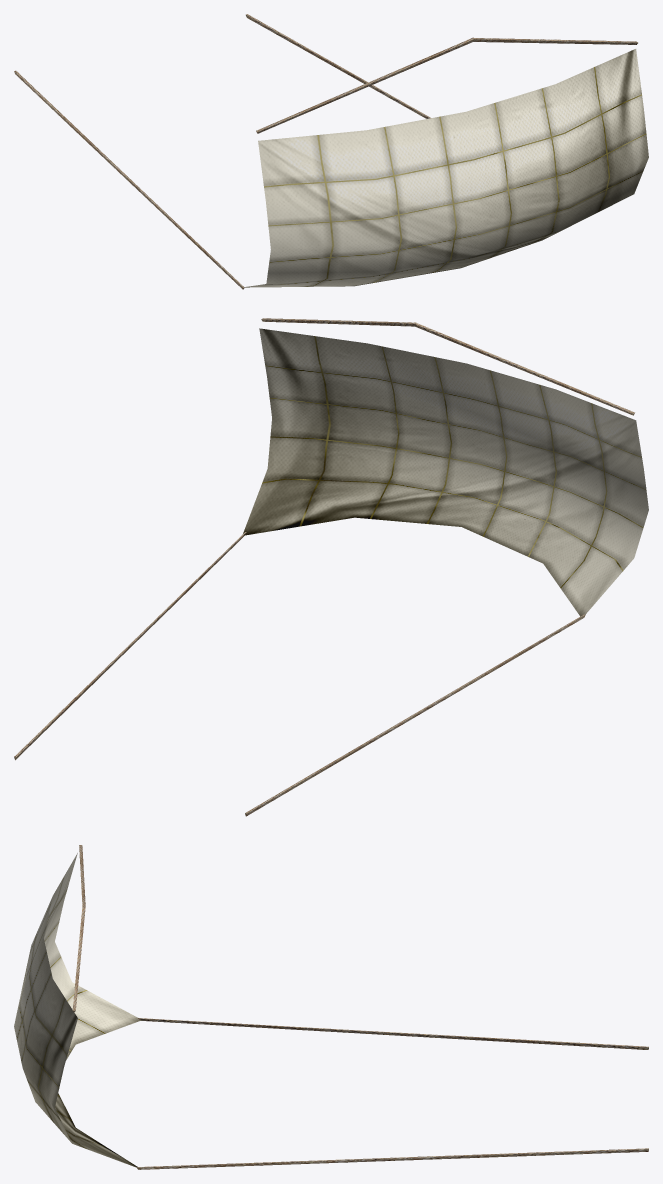
Rendered from rome_bireme_foresail.dae.
3 views of the same model, one above another, from view 1: azimuth 30°, elevation 25°; view 2: azimuth 150°, elevation 25°; view 3: azimuth 270°, elevation 25° (orthographic). The views are drawn at different scales.
Parts seen in each view (by area): view 1: Circle_001; view 2: Circle_001; view 3: Circle_001.
Boxes of the visible parts, x1=… form: Circle_001: x1=14, y1=14, x2=648, y2=289; Circle_001: x1=14, y1=318, x2=648, y2=816; Circle_001: x1=14, y1=845, x2=648, y2=1169.
Bounding box in the file's own units: 8.83 × 14.27 × 5.14.
